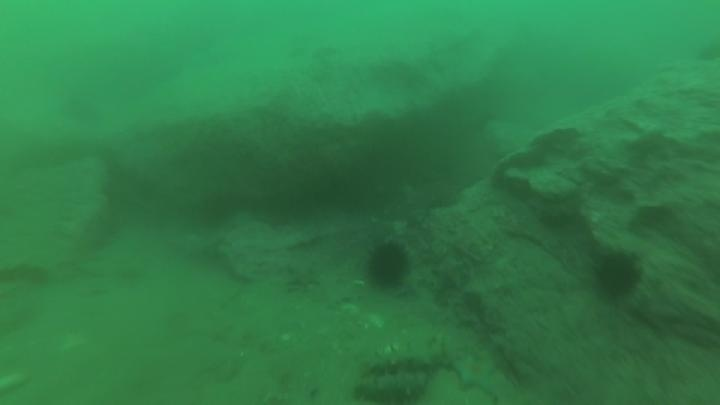echinus: (590, 247, 645, 303), (363, 239, 413, 291), (194, 188, 241, 230)
holothurian: (360, 337, 449, 381), (352, 369, 431, 404)
starfish: (448, 348, 504, 401), (429, 252, 472, 296)
